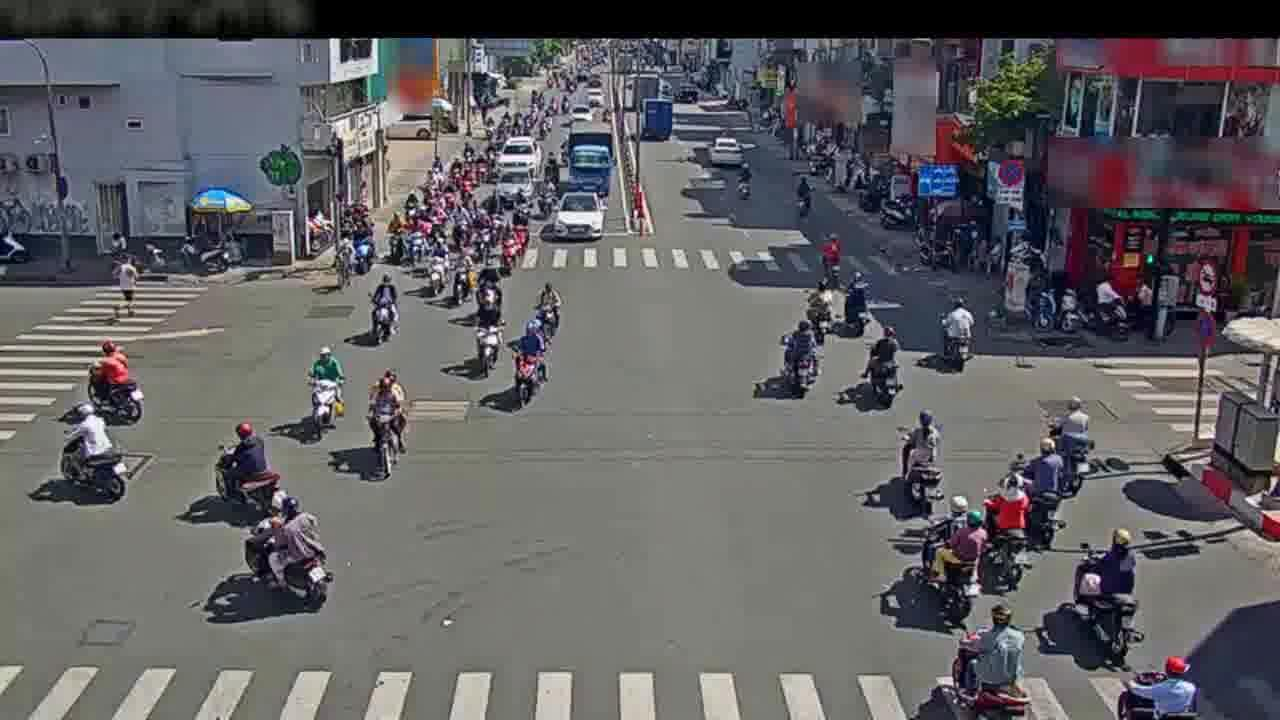8: (560, 122, 614, 204), (630, 85, 674, 148)
container: (555, 185, 606, 245), (494, 139, 537, 190), (705, 134, 744, 172)
motorbike: (240, 494, 330, 612), (1068, 530, 1141, 661), (942, 613, 1031, 715), (918, 504, 986, 624), (1115, 645, 1210, 720), (212, 415, 281, 518), (60, 407, 125, 502), (981, 463, 1029, 584), (983, 482, 1026, 603), (84, 342, 145, 427), (1021, 447, 1063, 559), (1051, 394, 1095, 498), (365, 370, 406, 476), (900, 412, 942, 514), (782, 312, 819, 403), (306, 347, 340, 443), (936, 295, 975, 377), (514, 317, 548, 411), (864, 323, 899, 411), (836, 267, 873, 342), (367, 274, 399, 353), (471, 303, 502, 384), (807, 269, 840, 344), (473, 261, 505, 326), (533, 278, 559, 350), (501, 214, 527, 277), (817, 227, 844, 284), (348, 218, 373, 277), (445, 254, 473, 305), (418, 245, 450, 289), (793, 168, 815, 226), (330, 237, 354, 290), (382, 213, 408, 260), (734, 160, 754, 207)
